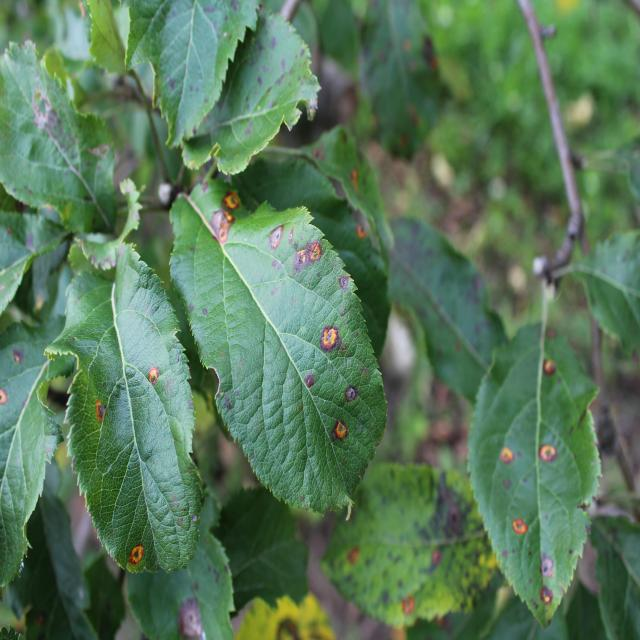rust: (166, 175, 388, 522), (42, 241, 205, 576), (466, 322, 602, 630), (320, 461, 502, 628), (0, 323, 66, 587), (125, 486, 236, 640)
